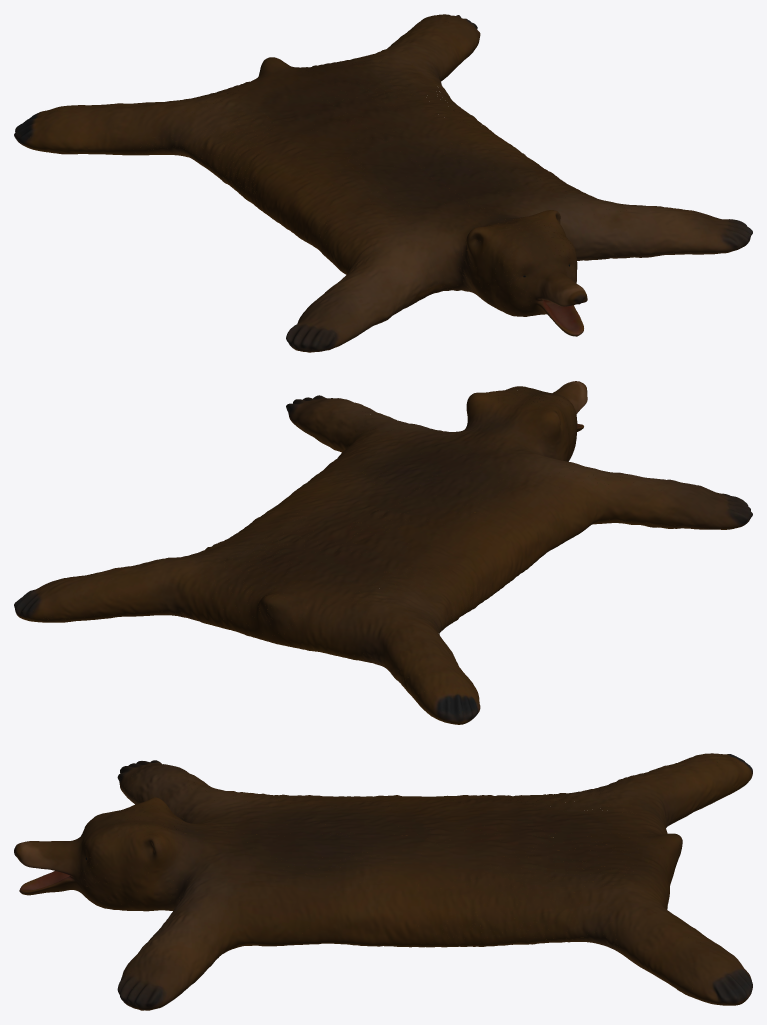
Rendered from fur_pelt.glb.
3 renders of one model, top to bottom at view 1: azimuth 30°, elevation 25°; view 2: azimuth 150°, elevation 25°; view 3: azimuth 270°, elevation 25°, orthographic. The views are drawn at different scales.
Visible parts, largest first — view 1: fur_pelt_3, fur_pelt_4, fur_pelt_0, fur_pelt_2, fur_pelt_1; view 2: fur_pelt_3, fur_pelt_4, fur_pelt_0, fur_pelt_2, fur_pelt_1; view 3: fur_pelt_0, fur_pelt_1, fur_pelt_2, fur_pelt_3, fur_pelt_4.
Boxes of the visible parts, x1,y1,x2,y2 form: fur_pelt_3: [15, 57, 544, 352]; fur_pelt_4: [14, 57, 580, 350]; fur_pelt_0: [269, 57, 750, 295]; fur_pelt_2: [257, 21, 587, 349]; fur_pelt_1: [154, 14, 752, 259]; fur_pelt_3: [267, 407, 752, 724]; fur_pelt_4: [268, 381, 744, 724]; fur_pelt_0: [241, 386, 539, 637]; fur_pelt_2: [22, 381, 750, 660]; fur_pelt_1: [14, 393, 482, 680]; fur_pelt_0: [49, 820, 682, 1009]; fur_pelt_1: [107, 807, 752, 1010]; fur_pelt_2: [14, 760, 751, 1005]; fur_pelt_3: [86, 753, 752, 886]; fur_pelt_4: [15, 753, 746, 890].
Bounding box in the file's own units: 1.69 × 0.2692 × 2.2.
Materials: 1 (1 with a texture image).
